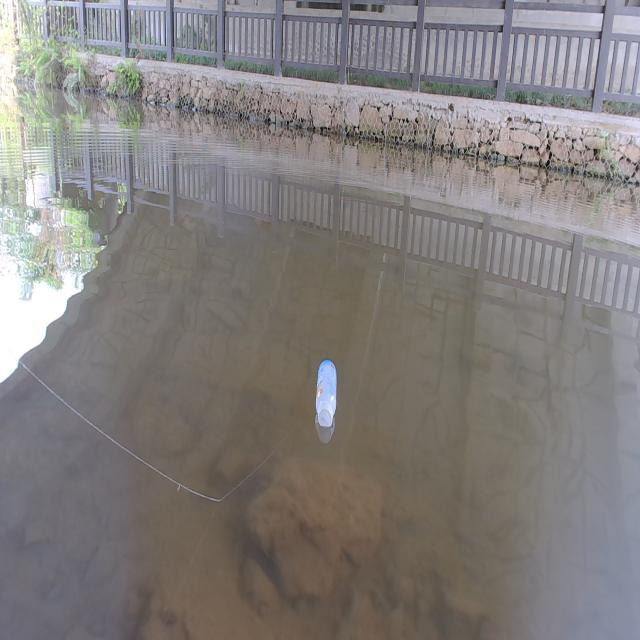garbage: (315, 358, 338, 444)
